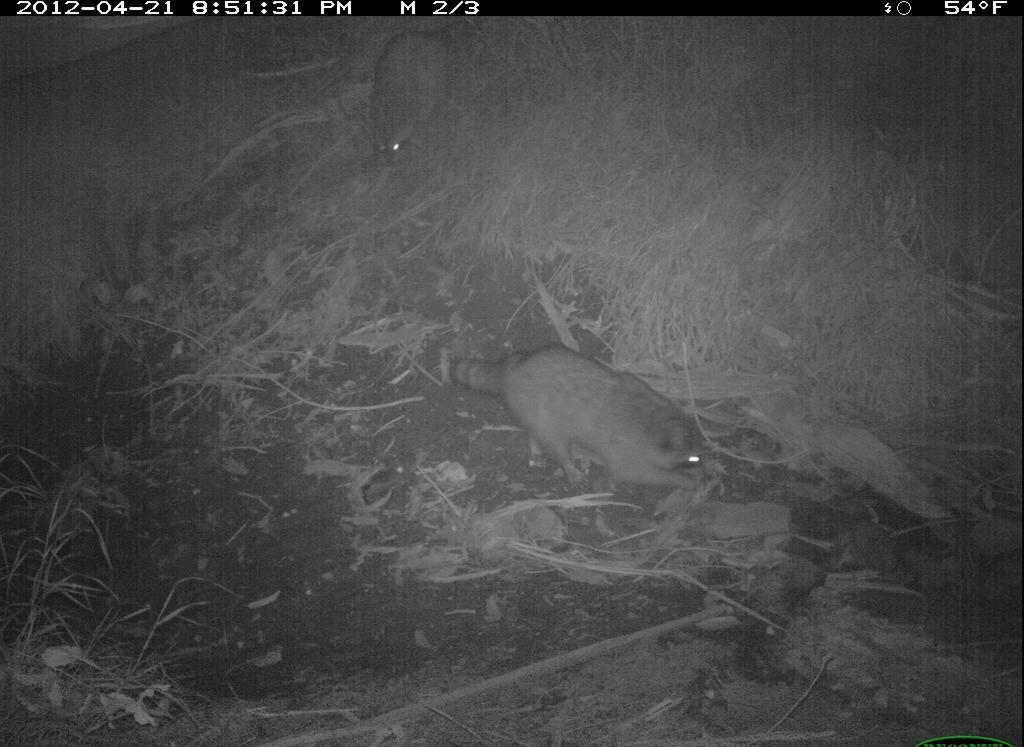raccoon: (447, 337, 726, 507), (365, 20, 476, 176)
